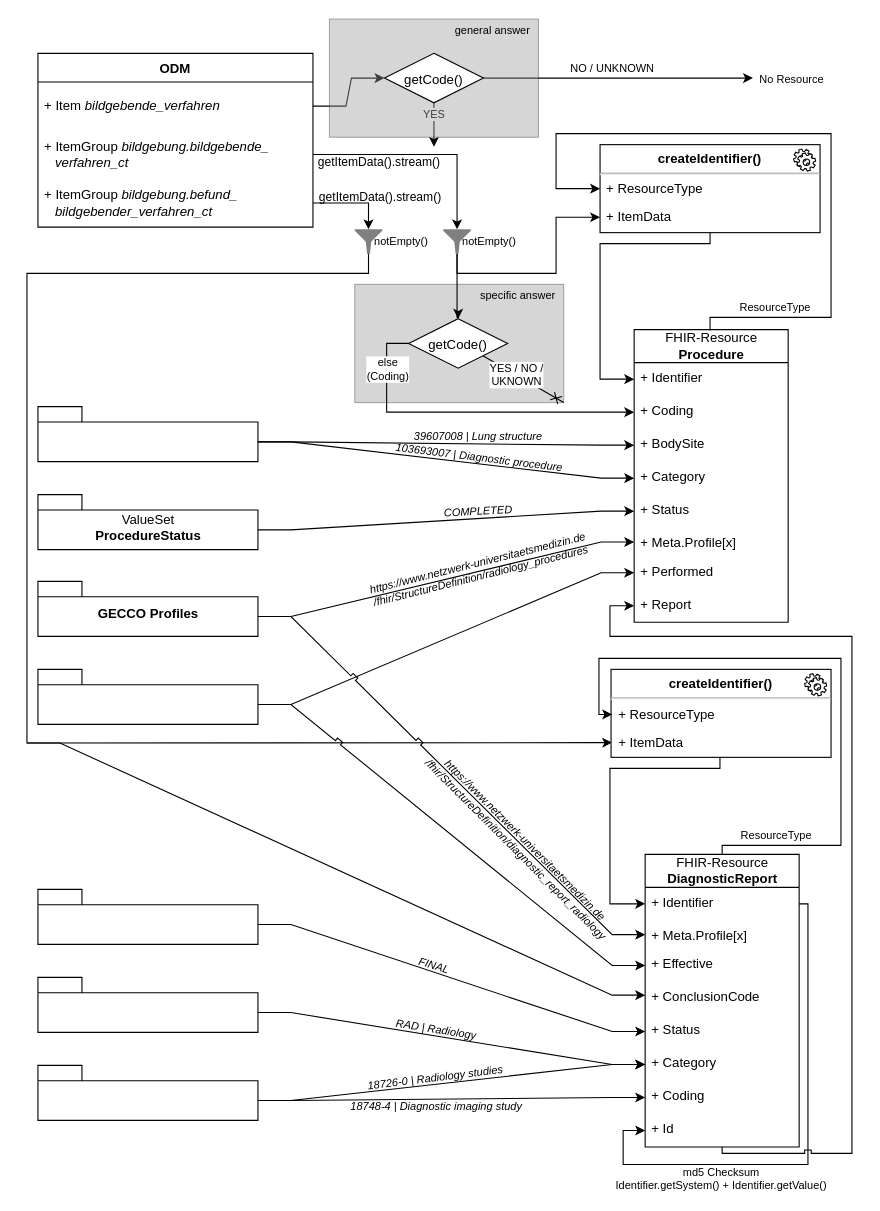
The diagram is 880 pixels wide and 1211 high, and some of its shapes have lost their labels. Here are the shapes that lost their labels. From the top down, the centre of each, then its label:
At point (147, 434): "Codesystem SNOMED-CT".
At point (147, 696): "Extension UnknownDateTime".
At point (147, 916): "ValueSet DiagnosticReportStatus".
At point (147, 1004): "ValueSet DiagnosticServiceSectionID".
At point (147, 1092): "Codesystem LOINC".
